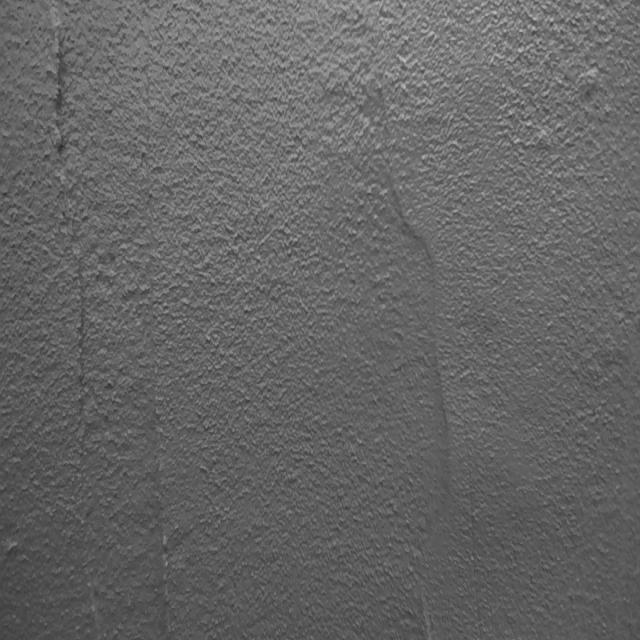trowels marks: (137, 48, 177, 640), (50, 18, 93, 558)
